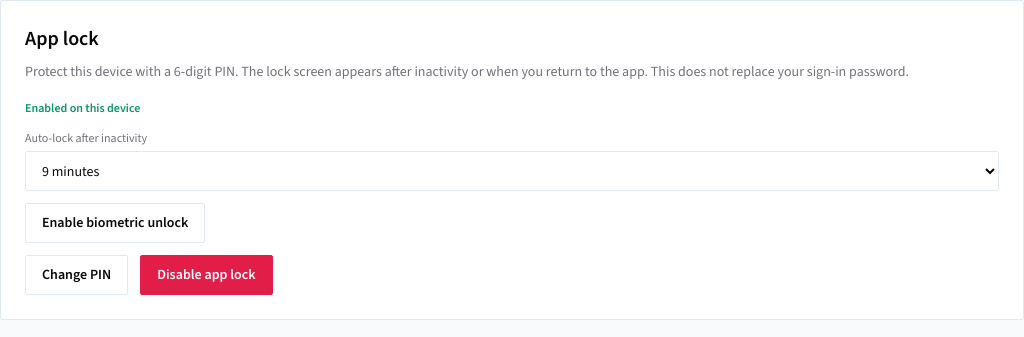
Test case: AppLockSetupPanel › disables app lock
Click the button "Disable app lock" at [206, 275], box 140,255 -> 272,295
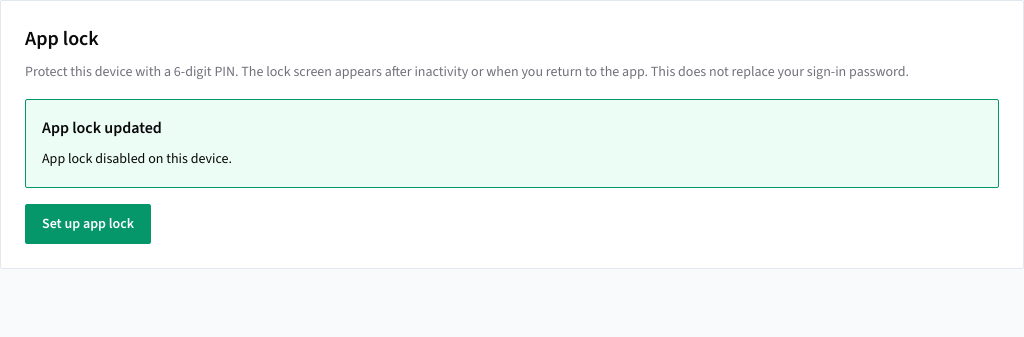
Expected: the text "App lock disabled on this device." is shown, 42,149 -> 232,168
